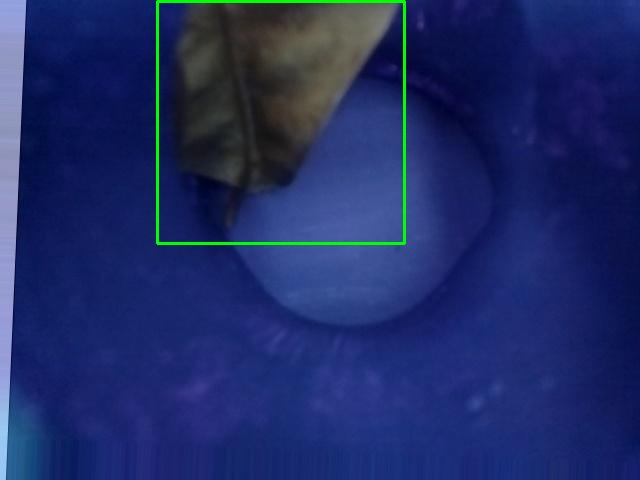feuille: (157, 1, 404, 243)
